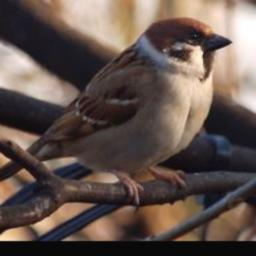Sparrow: (0, 15, 237, 213)
